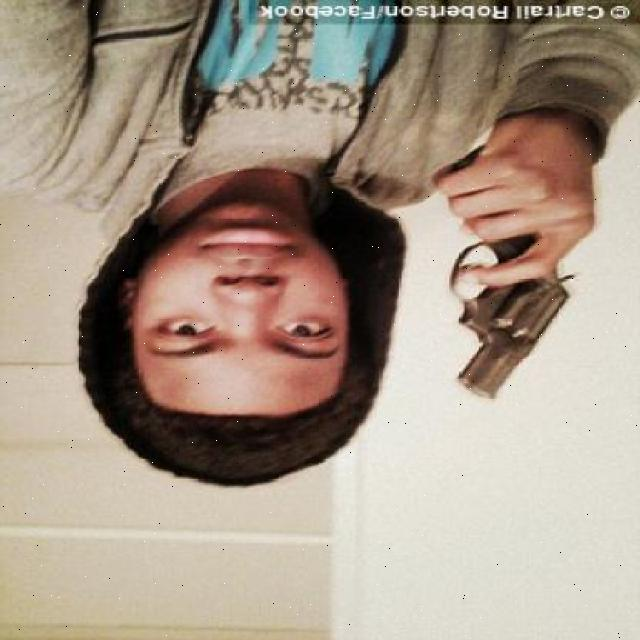gun: (424, 128, 607, 412)
